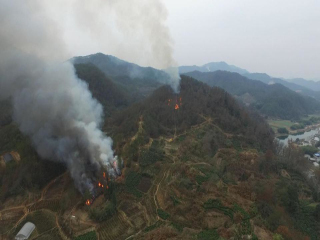smoke: (1, 2, 185, 197)
